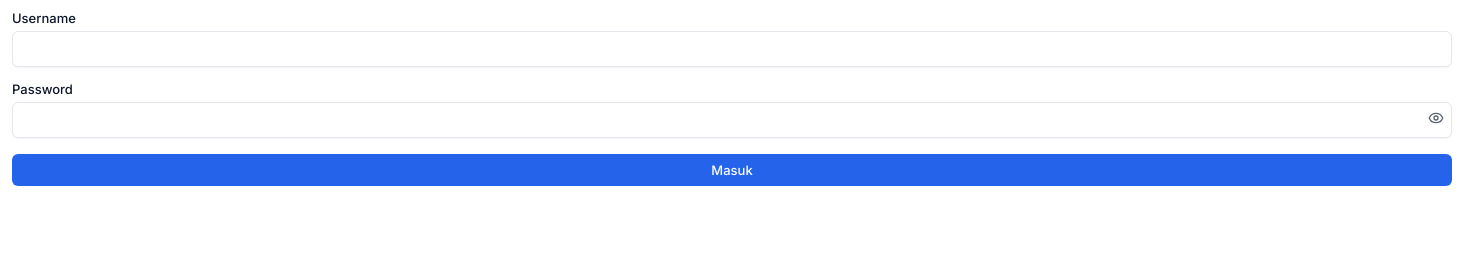
LoginForm › shows one generic message for wrong credentials
The width and height of the screenshot is (1464, 255).
Step 1. Type "nobody" into the field labelled "Username" → point(732, 49), box [12, 31, 1452, 67]
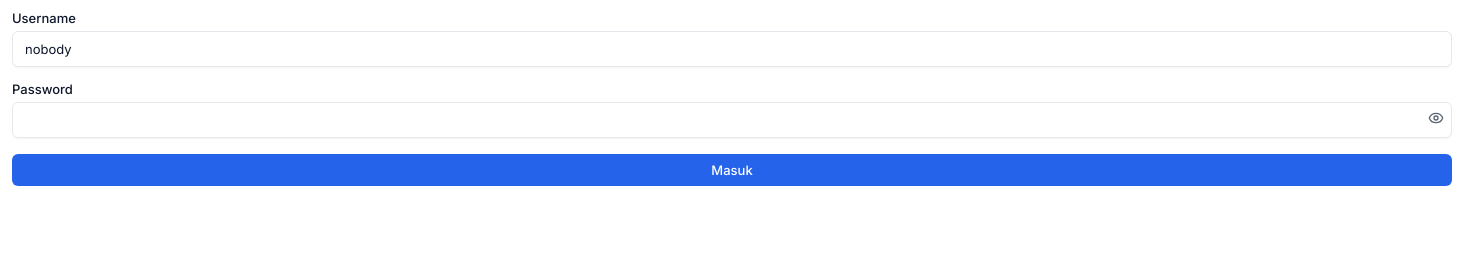
Step 2. Type "secret" into the password field labelled "Password" → point(732, 120), box [12, 102, 1452, 138]
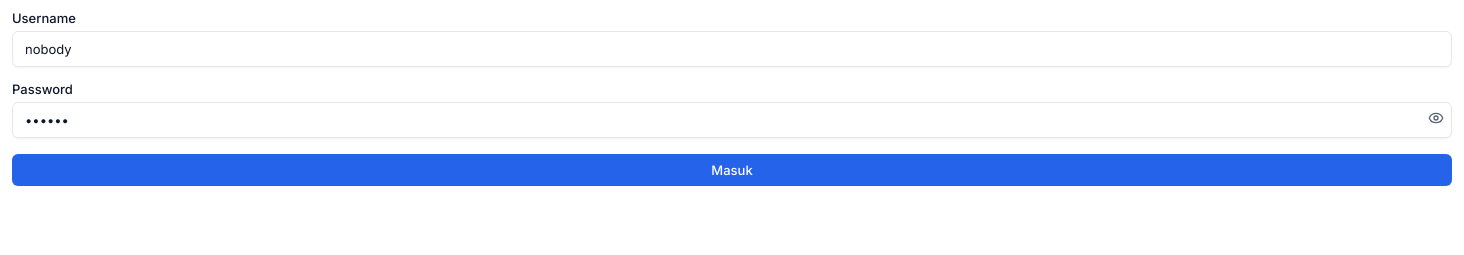
Step 3. Click the button "Masuk" → point(732, 170), box [12, 154, 1452, 186]
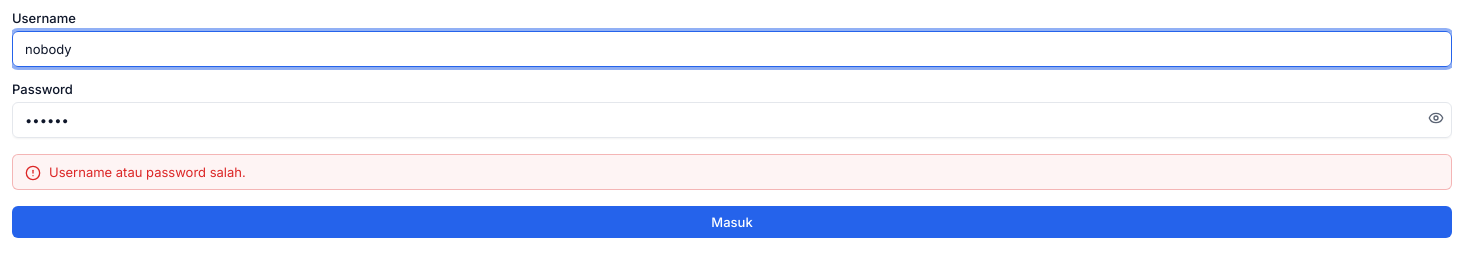
Check: the message reads "Username atau password salah.", box [49, 164, 246, 180]
